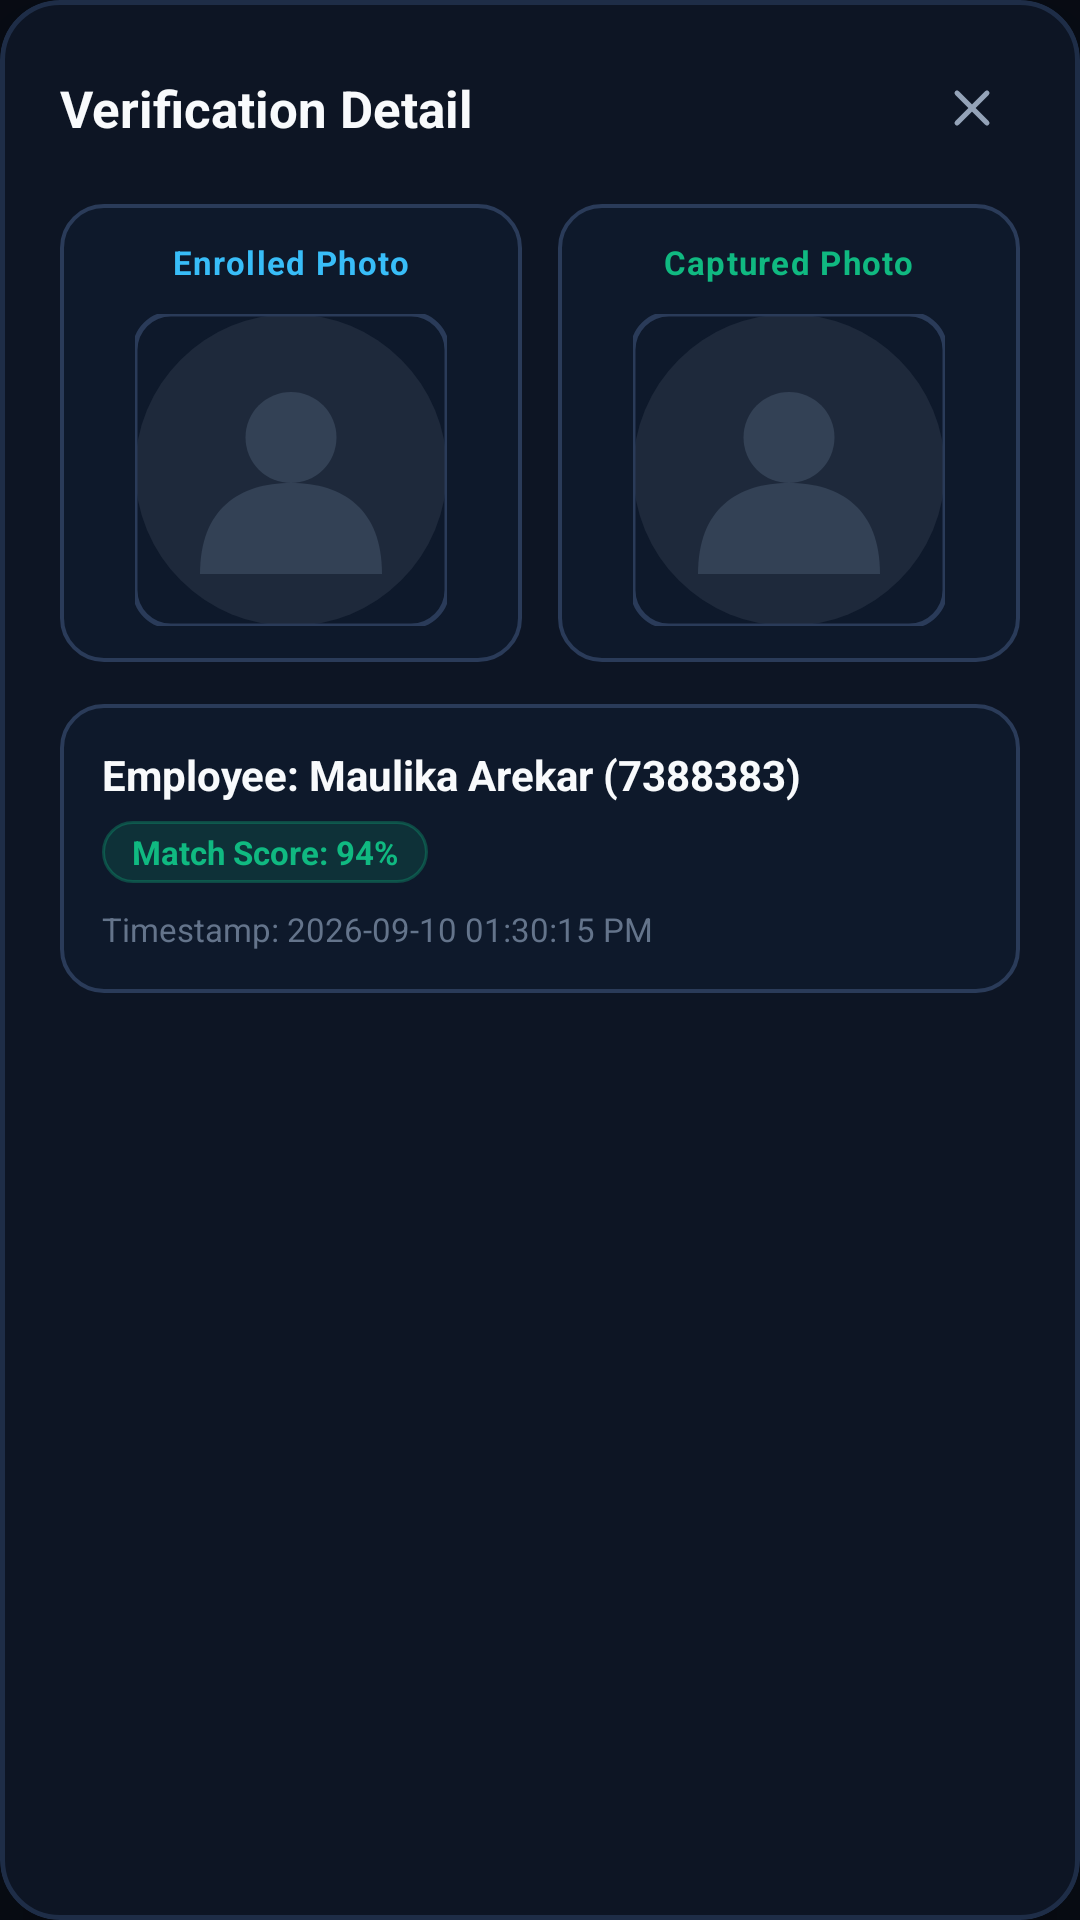

Named icons in this screenshot (1080*1920) and their centers, point (x, y):
Close: point (972, 108)
